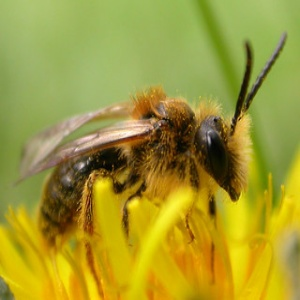bee: (9, 84, 257, 240)
